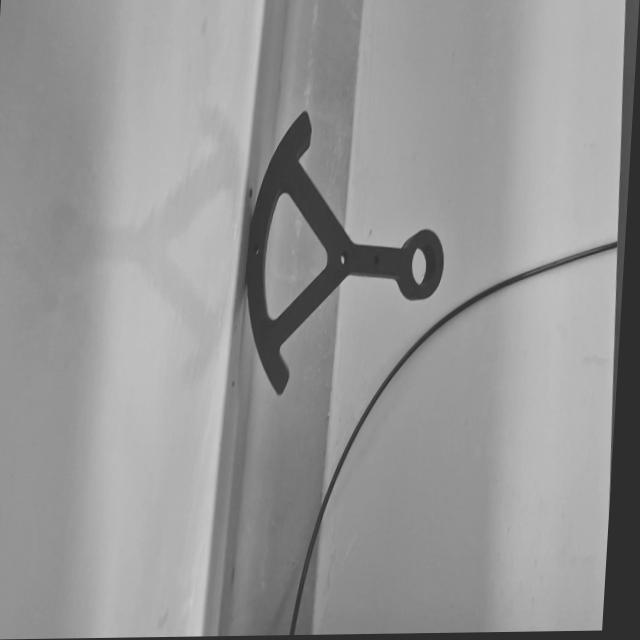haptic: (238, 107, 453, 397)
